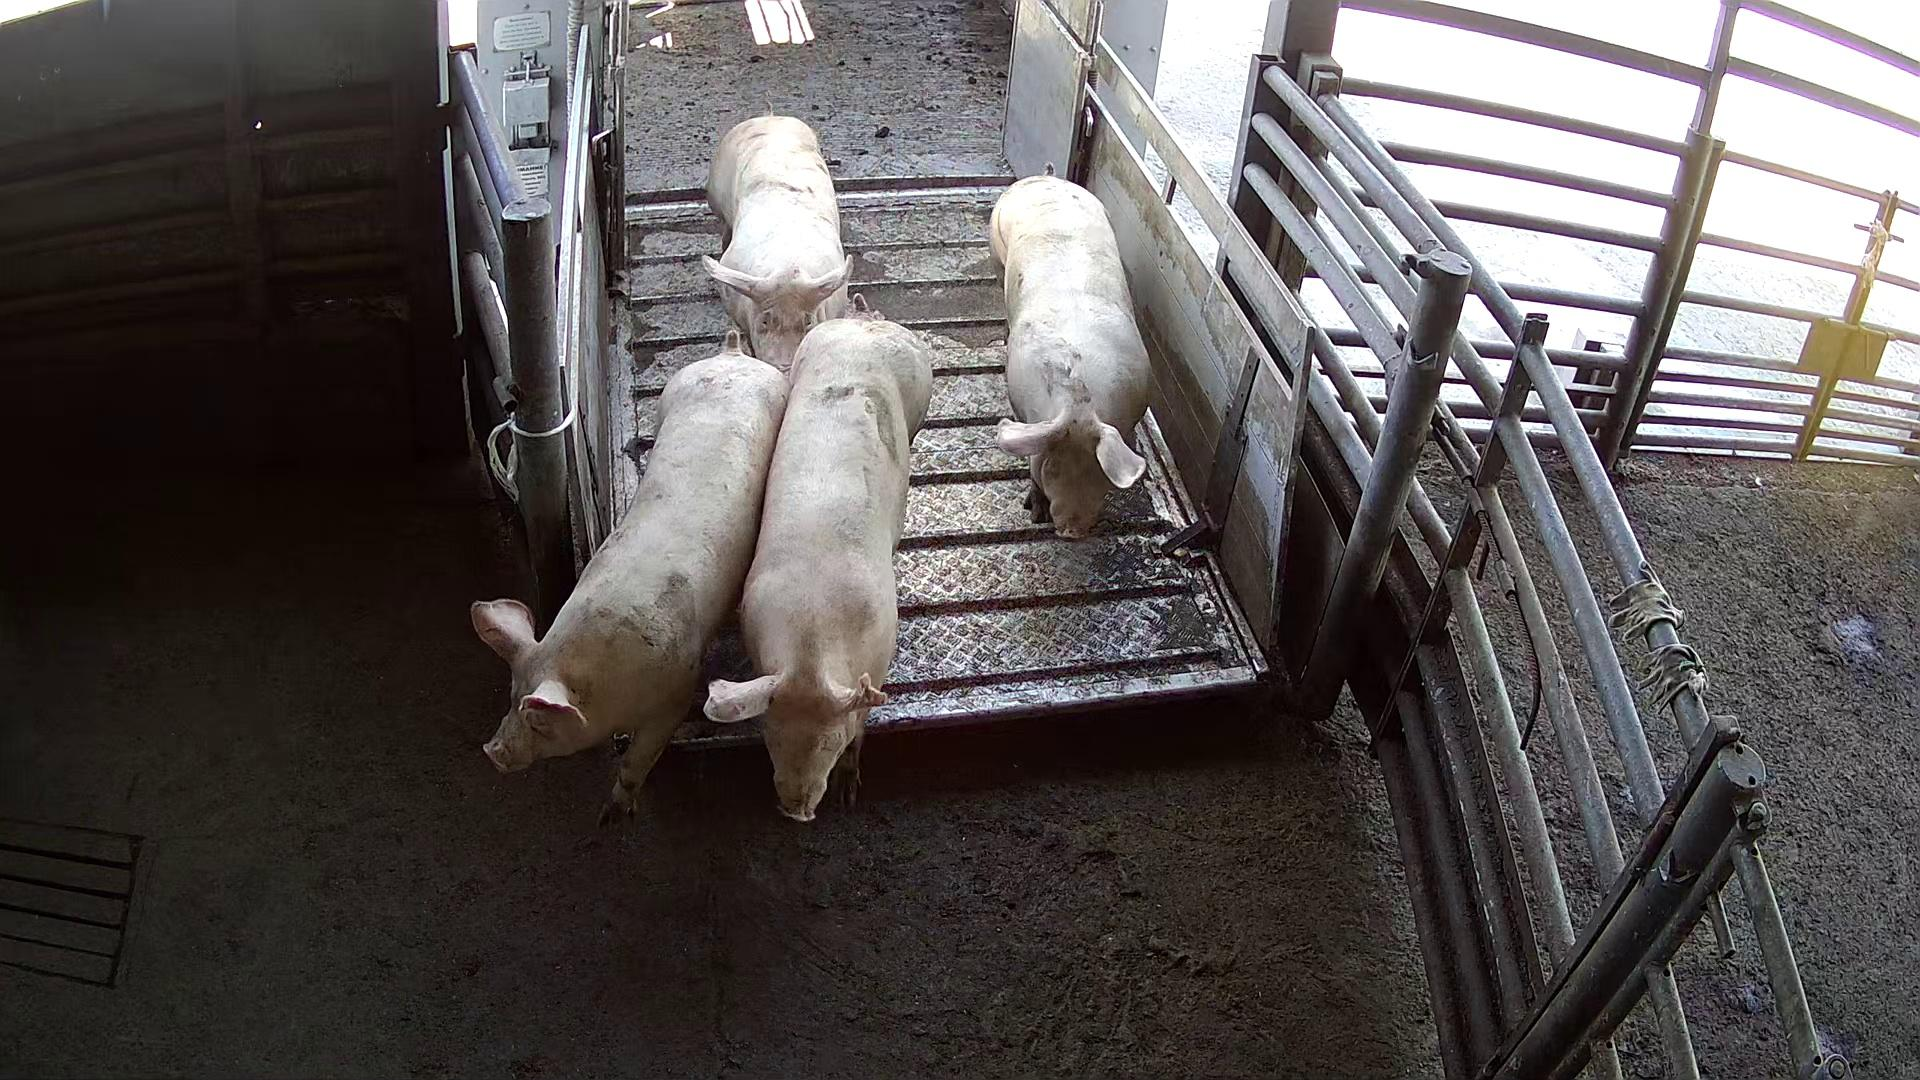Pig: (469, 334, 789, 823), (705, 313, 934, 822), (992, 173, 1151, 538), (702, 112, 852, 371)
